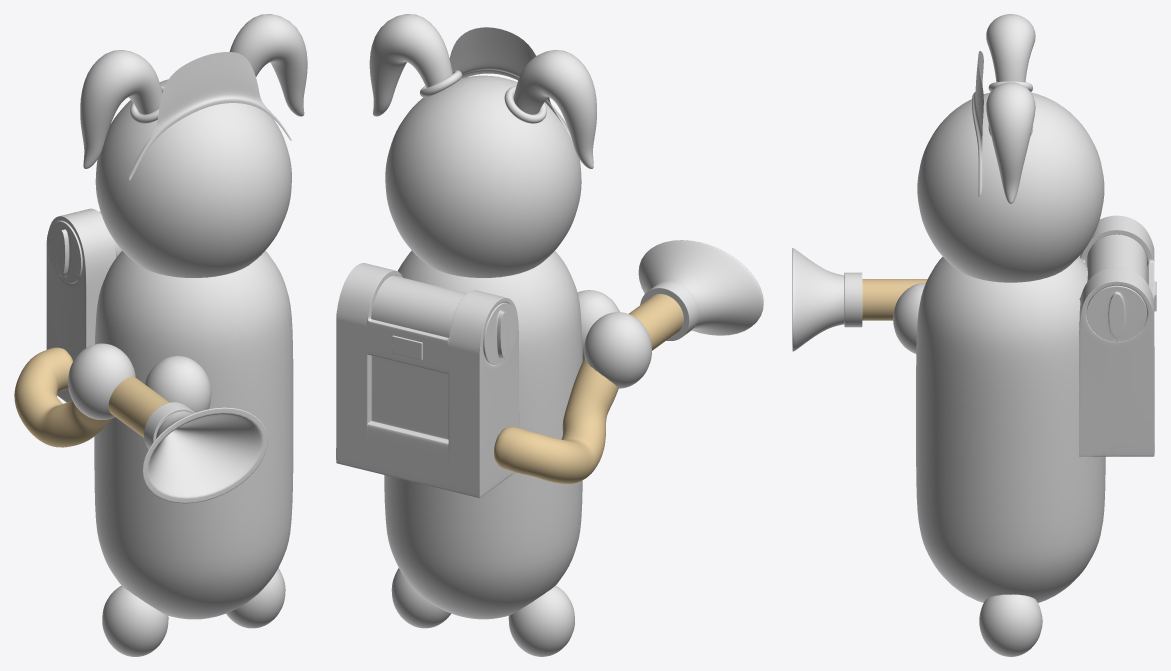
File: maid.fbx
The picture shows the model from 3 angles, left to right: view 1: azimuth 30°, elevation 25°; view 2: azimuth 150°, elevation 25°; view 3: azimuth 270°, elevation 25°; orthographic projection. The views are drawn at different scales.
Visible parts, largest first — view 1: Body, Cylinder, Cube; view 2: Body, Cube, Cylinder; view 3: Body, Cube, Cylinder.
Part boxes in pixels (<box>): Body: <box>68,14,307,656</box>; Cylinder: <box>14,347,267,503</box>; Cube: <box>46,208,121,402</box>; Body: <box>369,14,651,656</box>; Cube: <box>336,263,519,498</box>; Cylinder: <box>494,240,763,483</box>; Body: <box>893,14,1105,656</box>; Cube: <box>1079,215,1156,456</box>; Cylinder: <box>792,248,927,351</box>.
Bounding box in the file's own units: 301 × 627 × 359.
